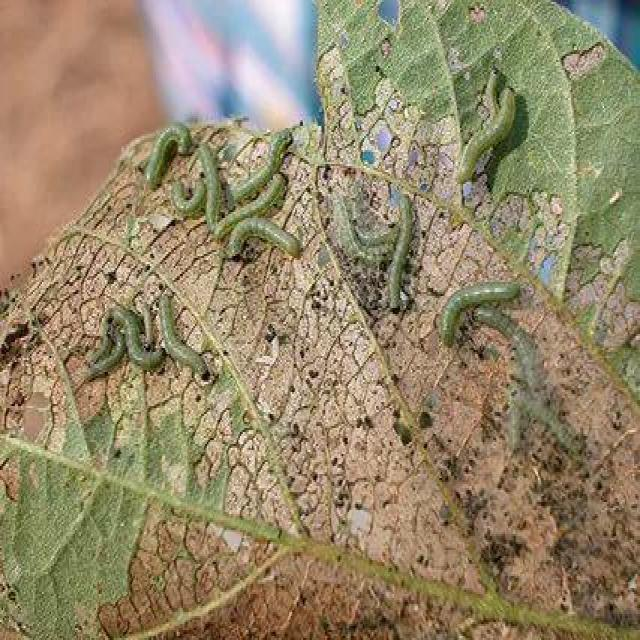BeetArmyWorm-Larva-: (454, 84, 524, 191), (435, 277, 527, 349), (381, 180, 421, 326), (158, 290, 212, 390), (137, 119, 195, 194), (226, 217, 304, 272), (196, 138, 223, 232)
